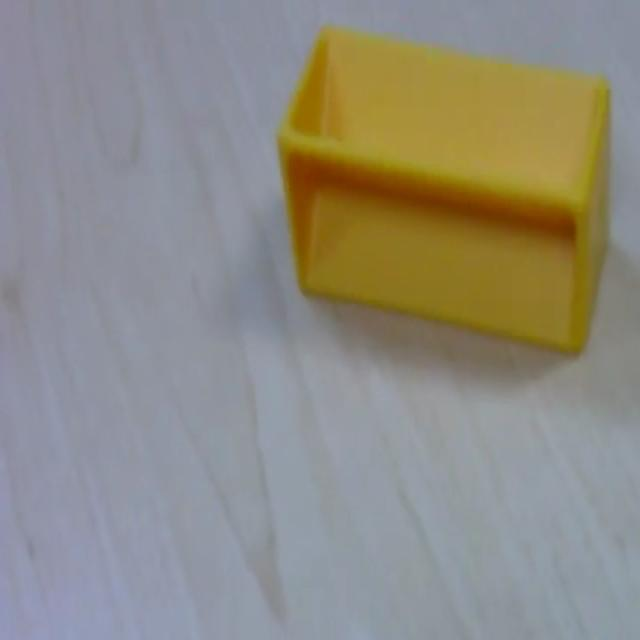yellow_block: (276, 23, 612, 356)
